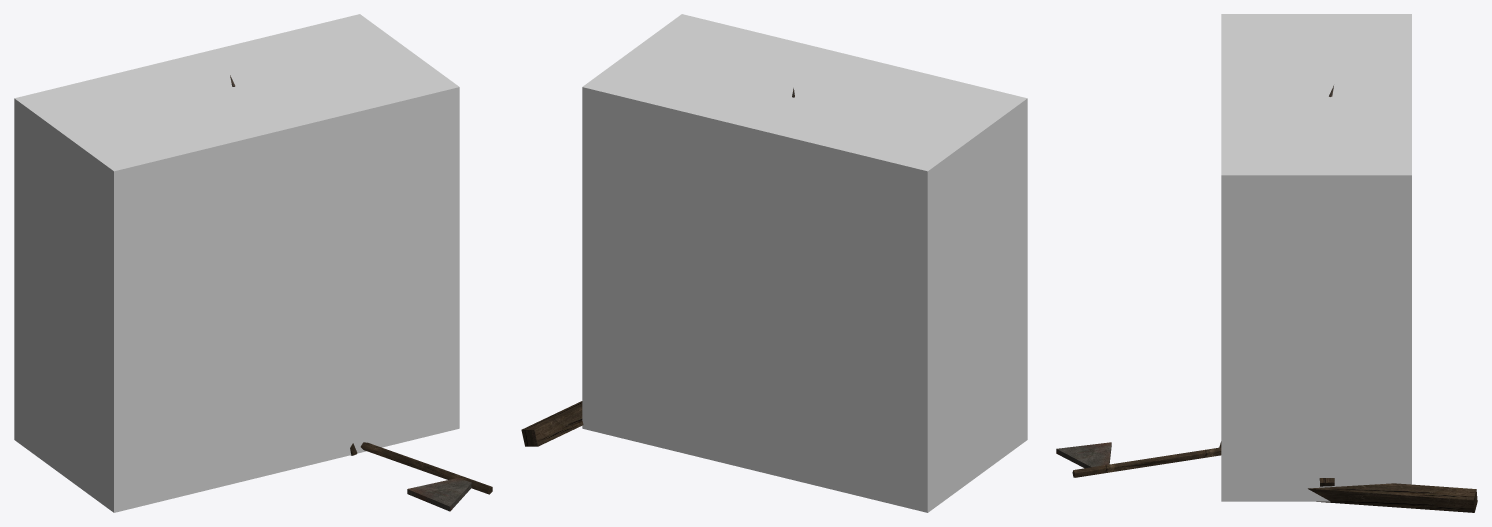
The model's file is weapon_rack_wreck_closed.glb.
3 views of the same model, side by side, from view 1: azimuth 30°, elevation 25°; view 2: azimuth 150°, elevation 25°; view 3: azimuth 270°, elevation 25° (orthographic). The views are drawn at different scales.
Parts seen in each view (by area): view 1: col_click, weapon_rack_wreck_closed; view 2: col_click, weapon_rack_wreck_closed; view 3: col_click, weapon_rack_wreck_closed.
Boxes of the visible parts, bbox=[...] form: col_click: bbox=[14, 14, 459, 512]; weapon_rack_wreck_closed: bbox=[230, 75, 492, 511]; col_click: bbox=[582, 14, 1027, 512]; weapon_rack_wreck_closed: bbox=[521, 88, 794, 446]; col_click: bbox=[1221, 14, 1411, 501]; weapon_rack_wreck_closed: bbox=[1056, 85, 1477, 512].
Bounding box in the file's own units: 1.95 × 1.77 × 1.99.
3 materials, 3 textured.
